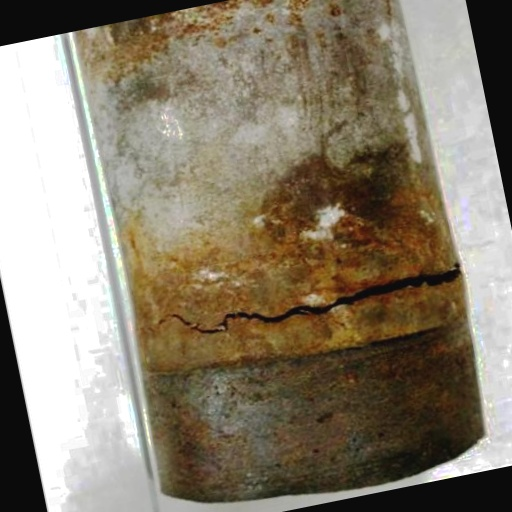crack: (149, 243, 469, 359)
